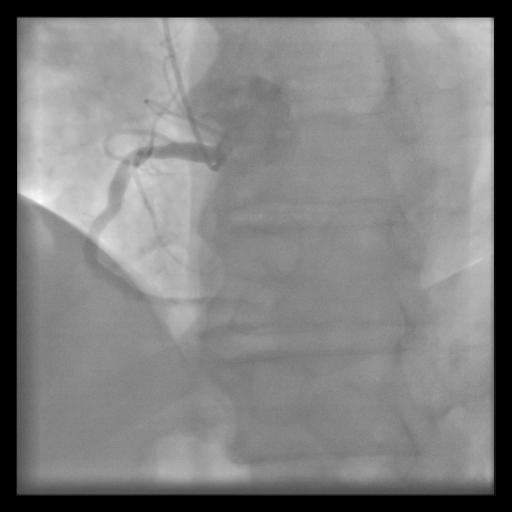Stenosis: (123, 142, 163, 161)
